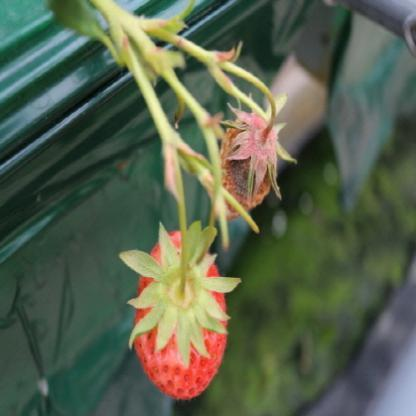Strawberry_Gray_Mold: (214, 102, 282, 219)
